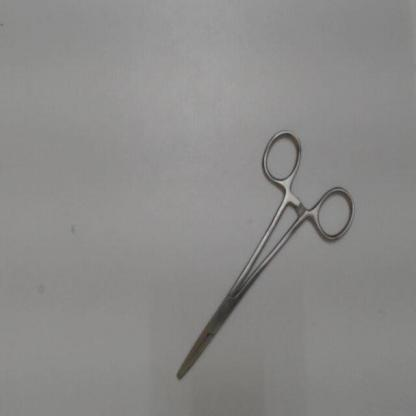Mayo Needle Holder: (166, 118, 364, 394)
